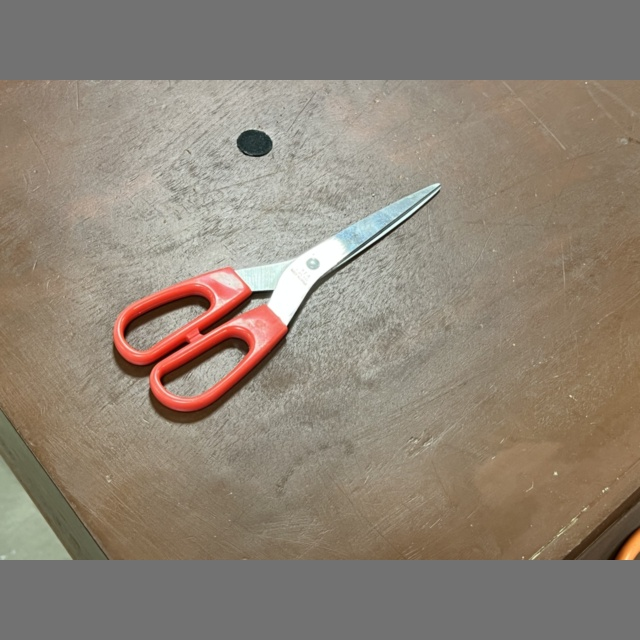scissor: (114, 184, 440, 411)
